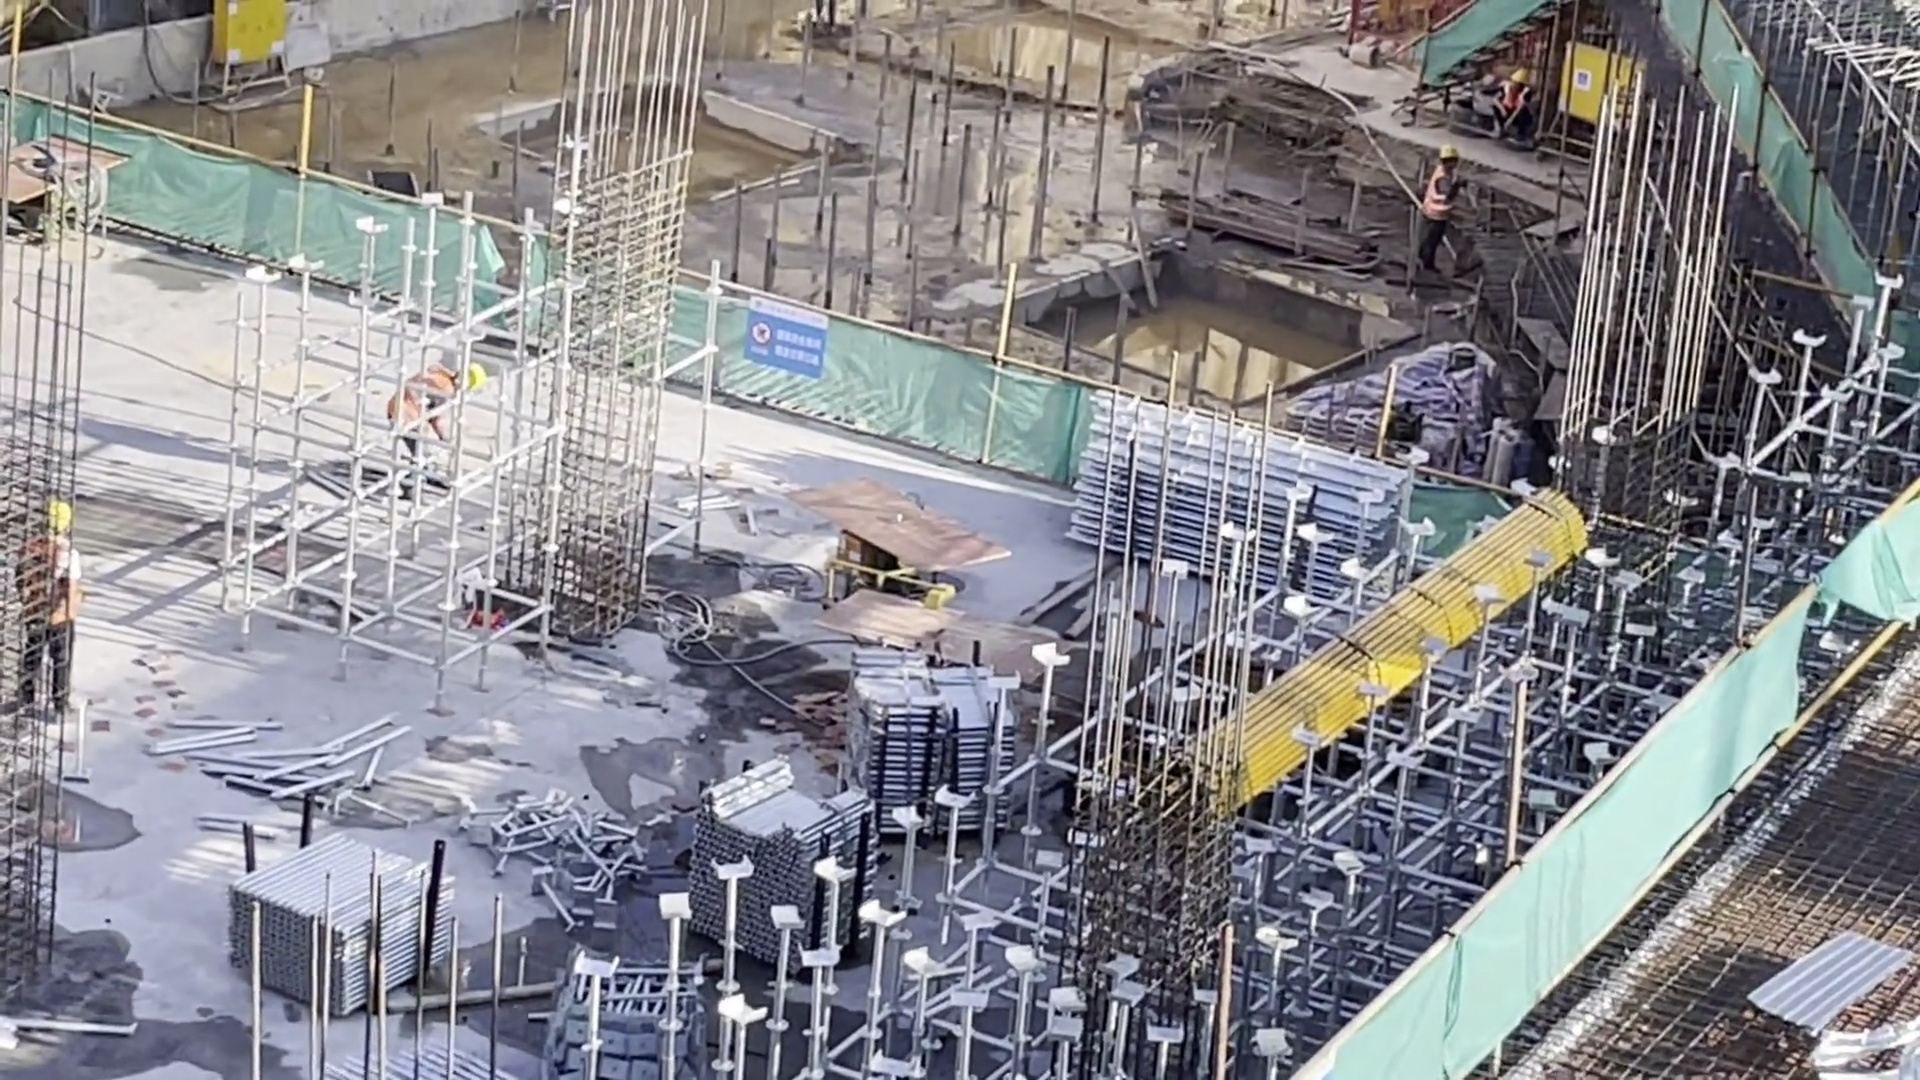cutter: (834, 595, 1074, 692), (814, 505, 986, 610), (1, 144, 116, 222)
ebox: (1560, 44, 1638, 137), (215, 1, 292, 86)
helmet: (31, 507, 69, 537), (455, 367, 483, 401), (1437, 145, 1458, 158), (1511, 70, 1530, 84)
person: (17, 498, 91, 719), (386, 367, 481, 494), (1418, 145, 1471, 290), (1491, 67, 1537, 144)
scaffold: (1092, 444, 1376, 570), (225, 866, 439, 998), (711, 781, 877, 933), (871, 673, 1000, 845), (327, 1051, 492, 1080)
slogan: (741, 308, 838, 375)
vest: (7, 547, 77, 641), (395, 371, 448, 428), (1421, 166, 1452, 222), (1497, 86, 1525, 113)
